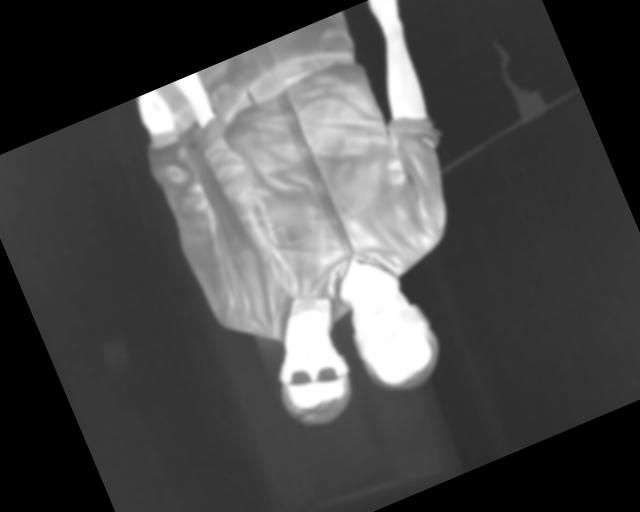face: (334, 271, 452, 405), (262, 322, 366, 436)
